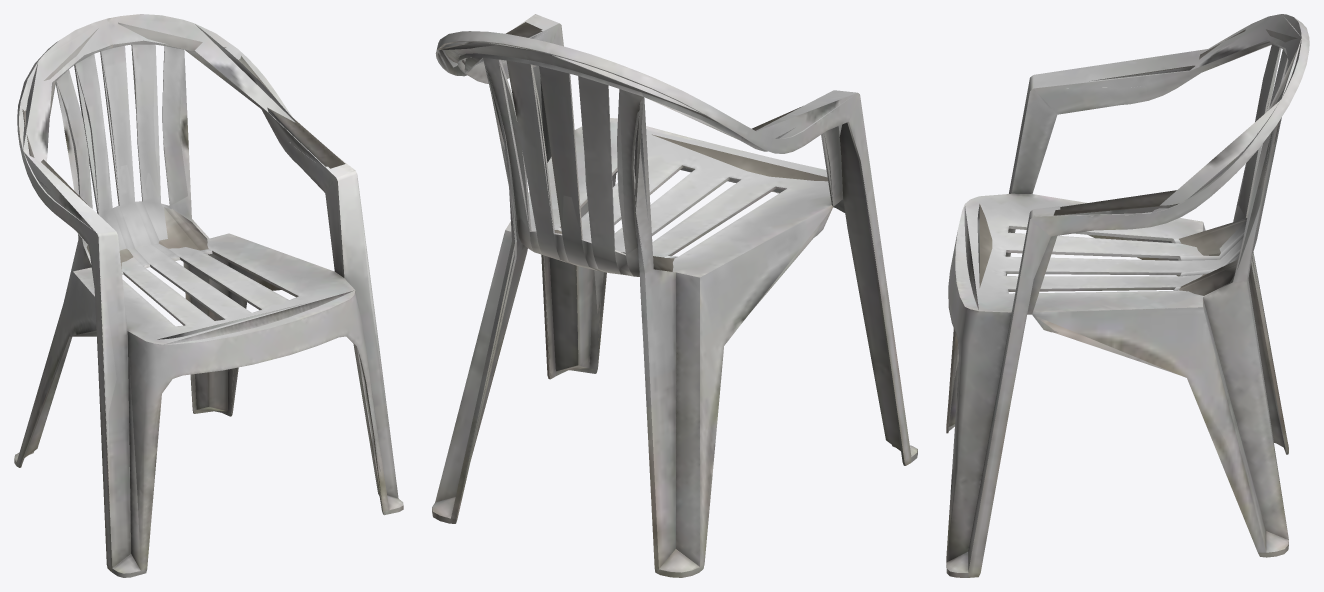
Rendered from plastic_monobloc_chair_01.glb.
The picture shows the model from 3 angles, left to right: view 1: azimuth 30°, elevation 25°; view 2: azimuth 150°, elevation 25°; view 3: azimuth 270°, elevation 25°; orthographic projection. The views are drawn at different scales.
Parts seen in each view (by area): view 1: plastic_monobloc_chair_01, plastic_monobloc_chair_01_lo; view 2: plastic_monobloc_chair_01_lo, plastic_monobloc_chair_01; view 3: plastic_monobloc_chair_01_lo, plastic_monobloc_chair_01.
Part boxes in pixels (<box>): plastic_monobloc_chair_01: <box>14,14,403,577</box>; plastic_monobloc_chair_01_lo: <box>19,18,398,572</box>; plastic_monobloc_chair_01_lo: <box>436,14,911,572</box>; plastic_monobloc_chair_01: <box>432,24,917,577</box>; plastic_monobloc_chair_01_lo: <box>946,14,1301,577</box>; plastic_monobloc_chair_01: <box>946,14,1309,577</box>.
Bounding box in the file's own units: 0.6419 × 0.8798 × 0.6276.
Materials: 1 (1 with a texture image).
